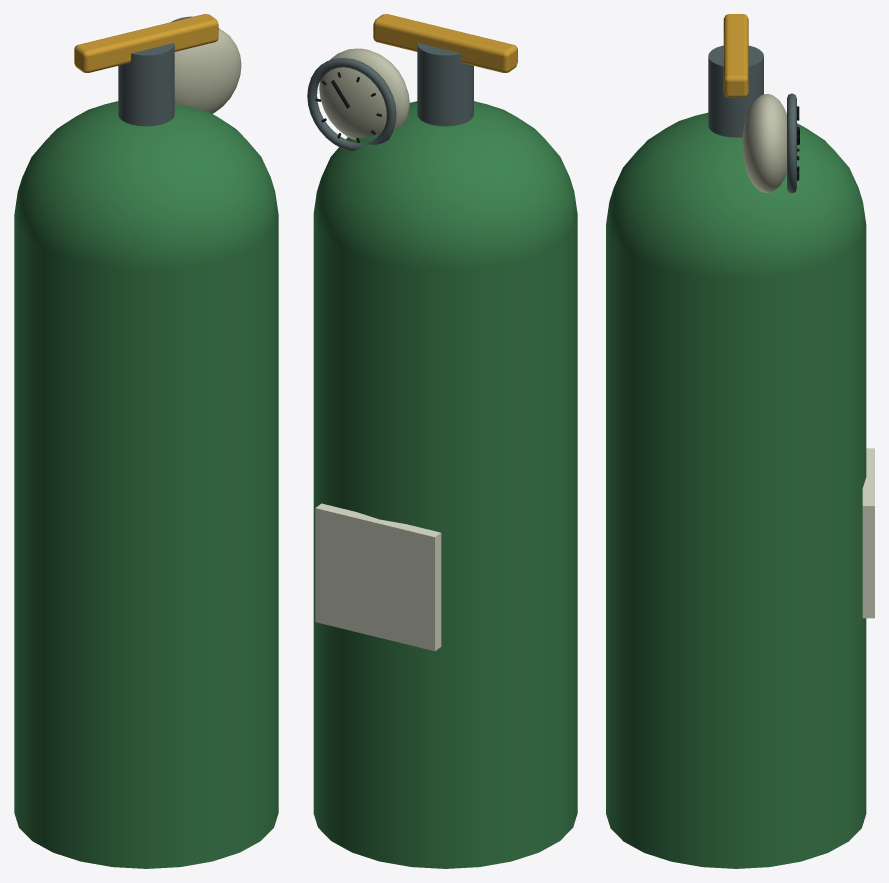
The model's file is OxygenTank.obj.
3 views of the same model, side by side, from view 1: azimuth 30°, elevation 25°; view 2: azimuth 150°, elevation 25°; view 3: azimuth 270°, elevation 25° (orthographic).
Parts seen in each view (by area): view 1: OxygenTank; view 2: OxygenTank; view 3: OxygenTank.
Part boxes in pixels (box(x1,y1,x2,y2)): OxygenTank: box(14, 14, 278, 868); OxygenTank: box(307, 14, 577, 868); OxygenTank: box(606, 14, 874, 868).
Bounding box in the file's own units: 0.42 × 1.37 × 0.434.
